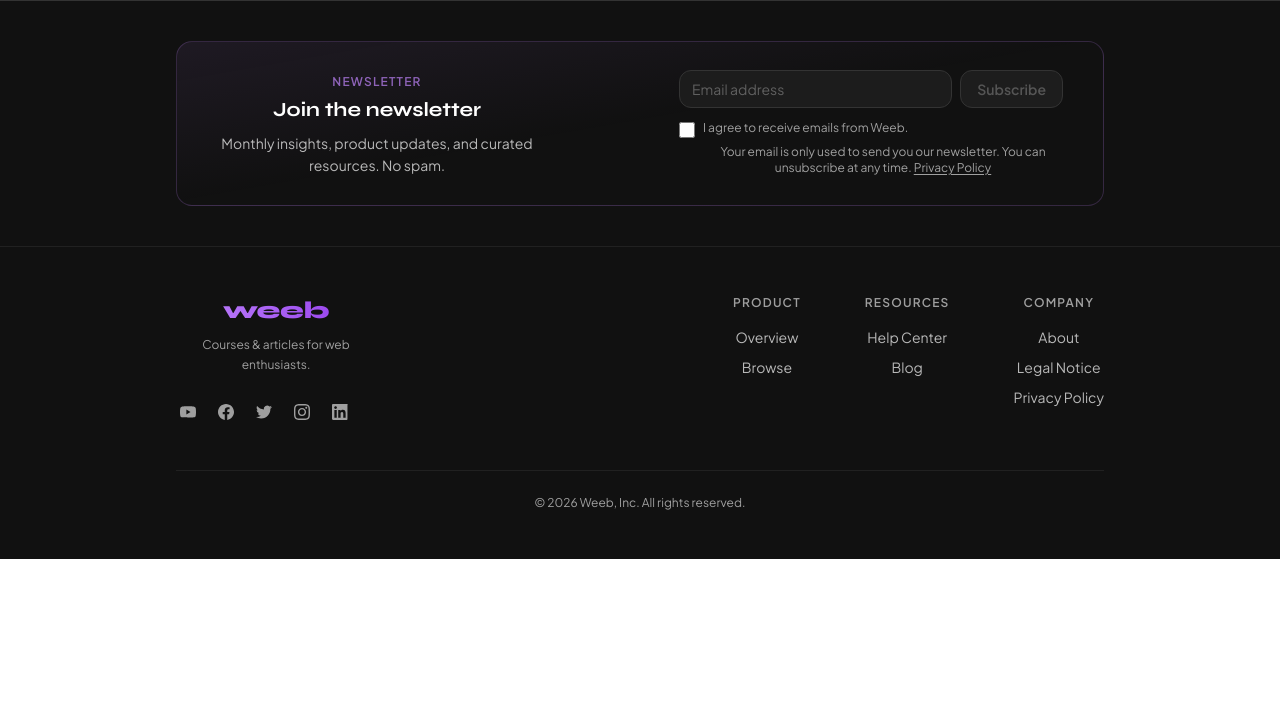
Test: Footer › disables submit until consent is checked
The image size is (1280, 720).
Check: the button "Subscribe" is disabled, box [960, 70, 1063, 108]
In the field labelled "Email address": [816, 89] box [679, 70, 952, 108], type "hello@example.com"
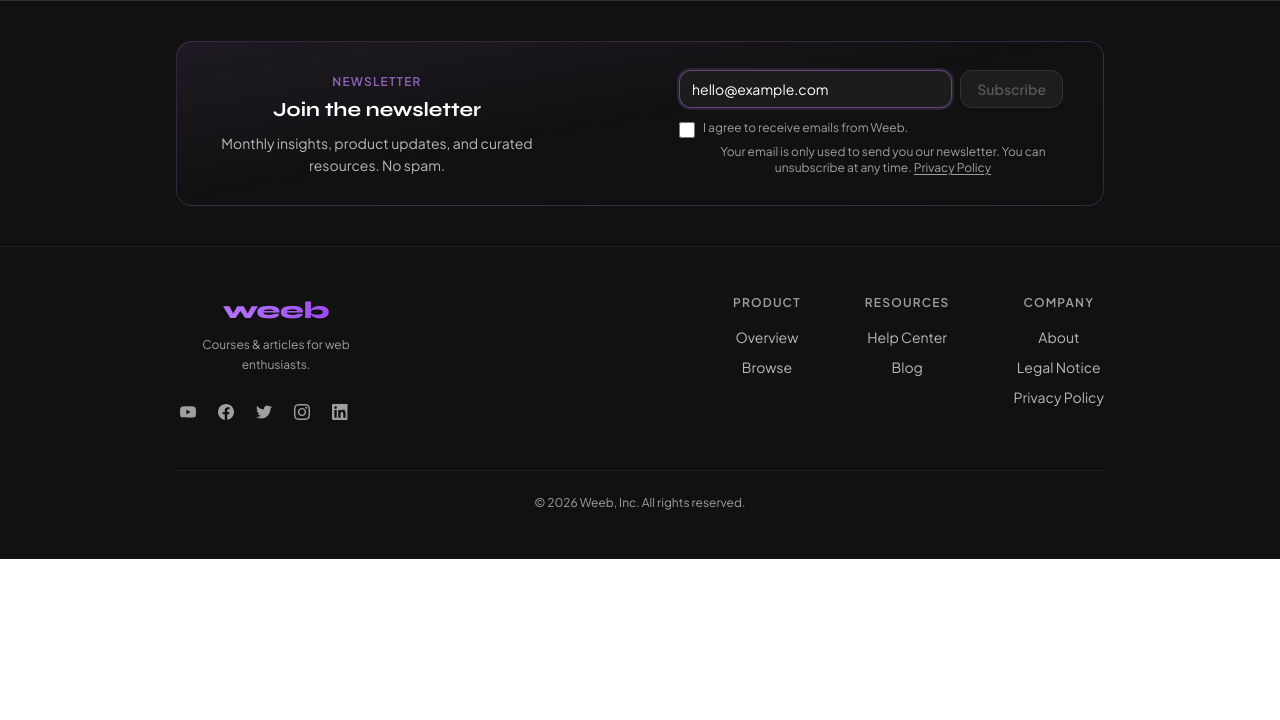
Check: the button "Subscribe" is disabled, box [960, 70, 1063, 108]
Click the checkbox labelled "I agree to receive emails from Weeb.": [687, 130] box [679, 122, 695, 138]
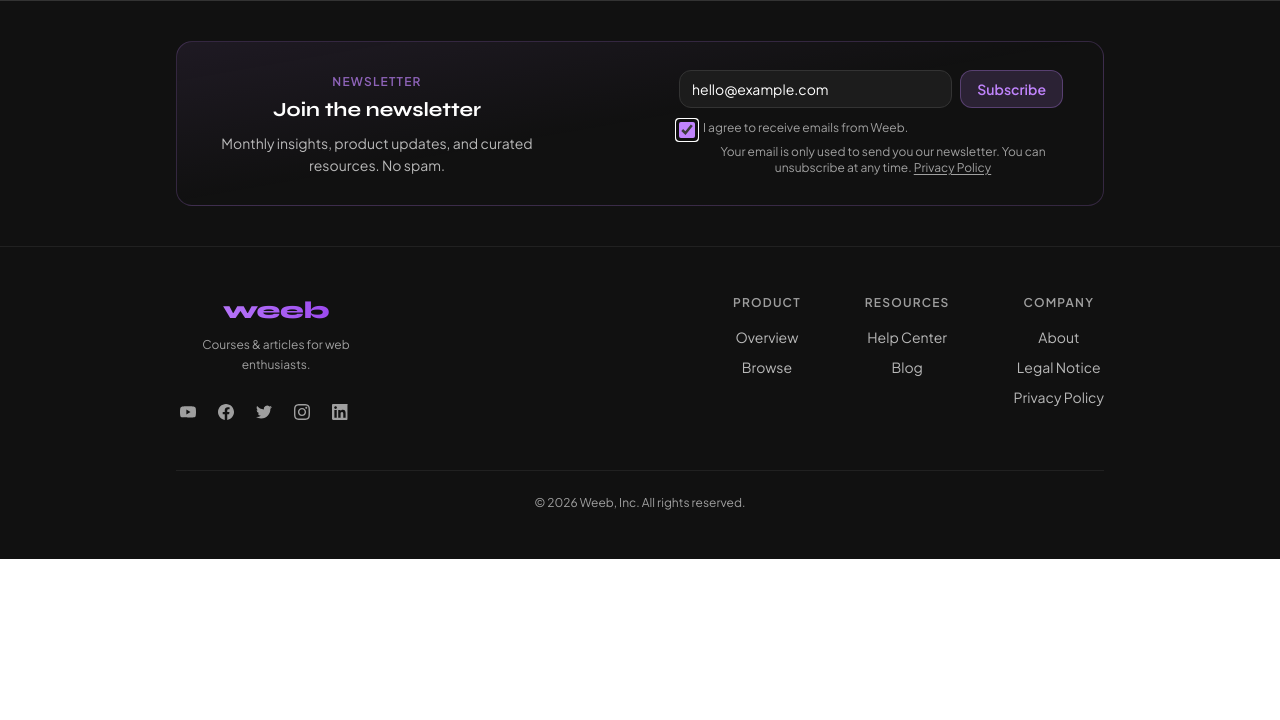
Check: the button "Subscribe" is enabled, box [960, 70, 1063, 108]
